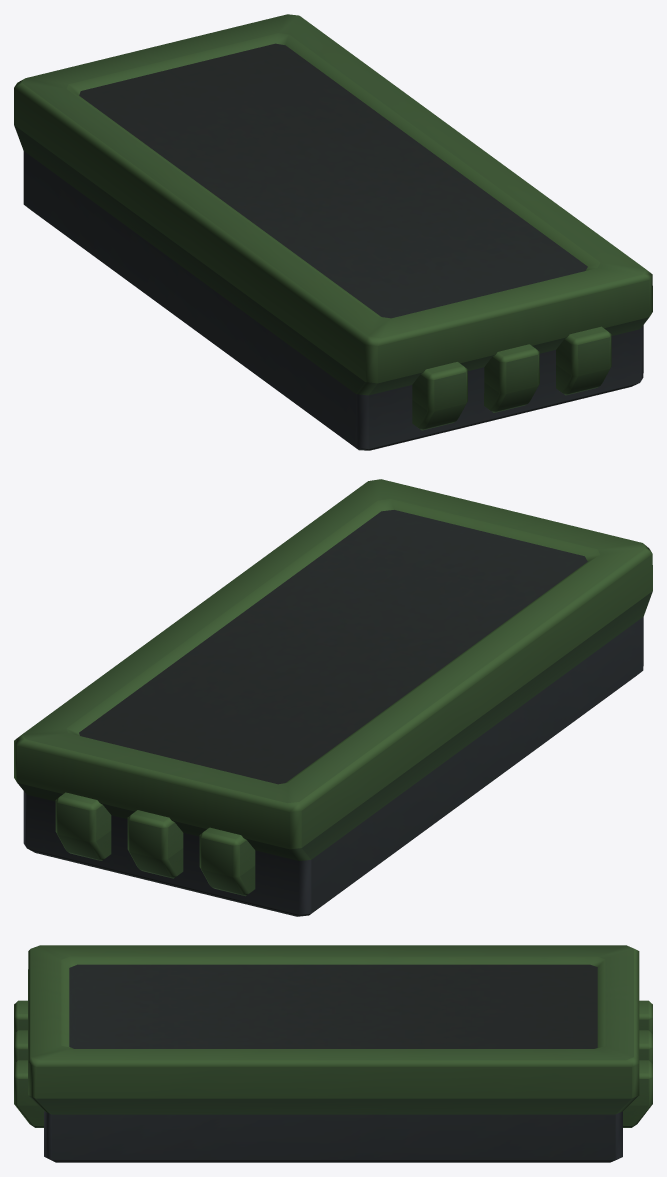
Rendered from appartment_type1_roof_type2_x2_flat_brown.fbx.
The picture shows the model from 3 angles, top to bottom: view 1: azimuth 30°, elevation 25°; view 2: azimuth 150°, elevation 25°; view 3: azimuth 270°, elevation 25°; orthographic projection. The views are drawn at different scales.
Visible parts, largest first — view 1: appartment_type1_roof_type2_x2_flat_brown; view 2: appartment_type1_roof_type2_x2_flat_brown; view 3: appartment_type1_roof_type2_x2_flat_brown.
Boxes of the visible parts, x1=… form: appartment_type1_roof_type2_x2_flat_brown: x1=14, y1=14, x2=652, y2=450; appartment_type1_roof_type2_x2_flat_brown: x1=14, y1=479, x2=652, y2=916; appartment_type1_roof_type2_x2_flat_brown: x1=14, y1=945, x2=652, y2=1162.
Size of the model in its own units: 400 by 160 by 907.
